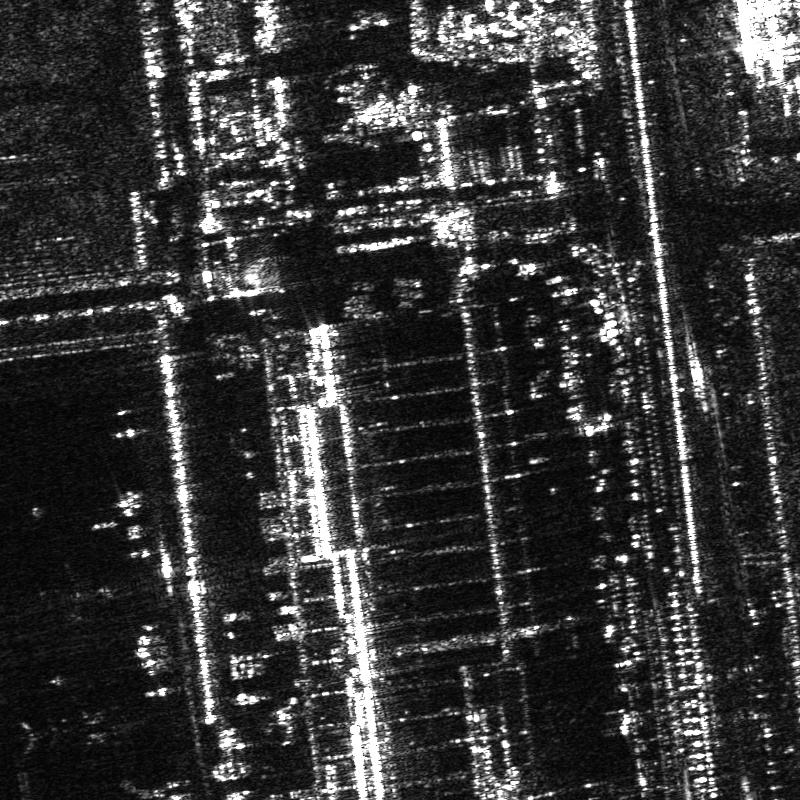Boeing787: (28, 680, 126, 764)
other: (33, 561, 116, 628)
